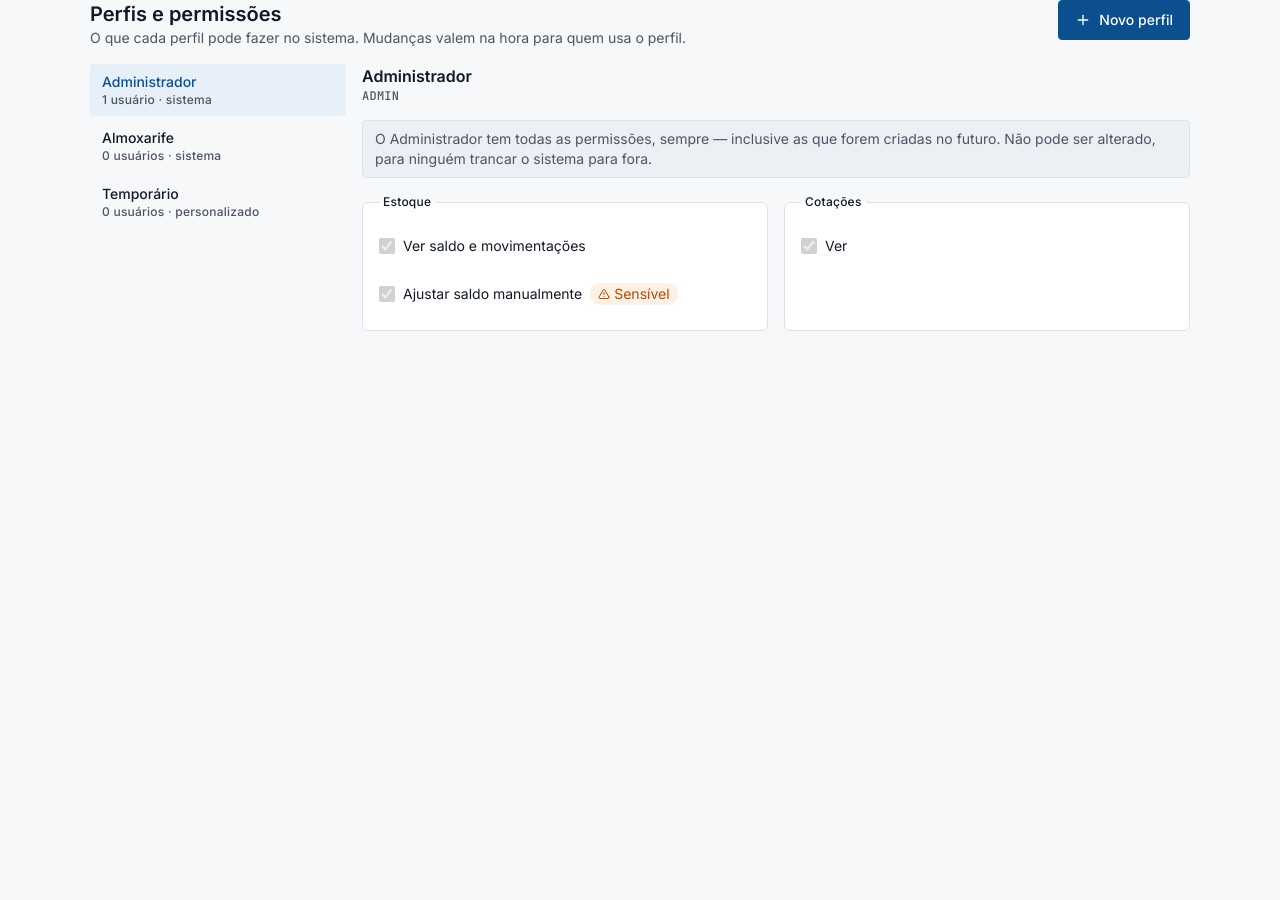
Test case: PerfisPermissoes › trocar de perfil com alteracao nao salva pede confirmacao
The image size is (1280, 900).
Click the button "Almoxarife 0 usuários · sistema" at (218, 146), box [90,120,346,172]
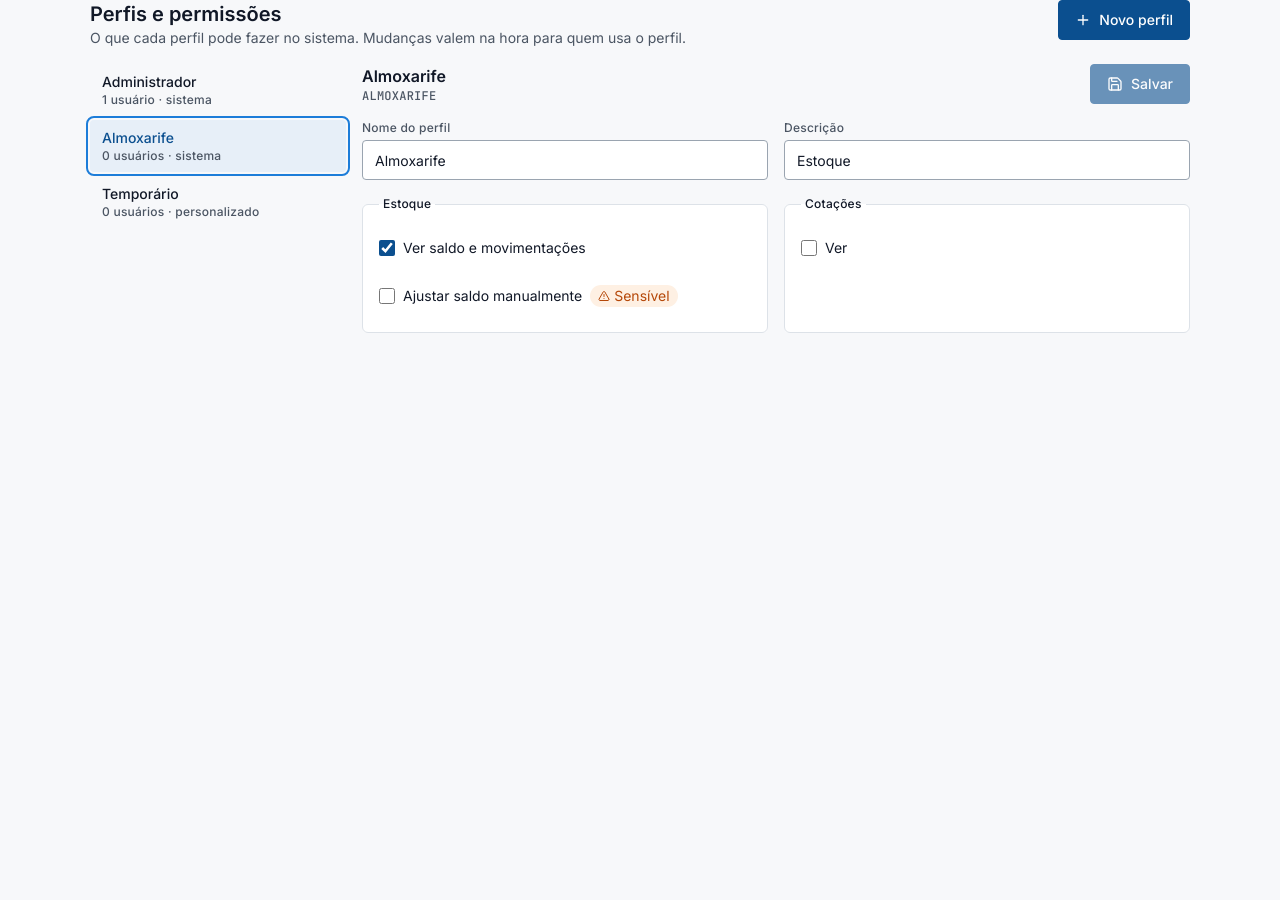
Click the checkbox labelled "Ajustar saldo manualmente Sensível" at (387, 296), box [379,288,395,304]
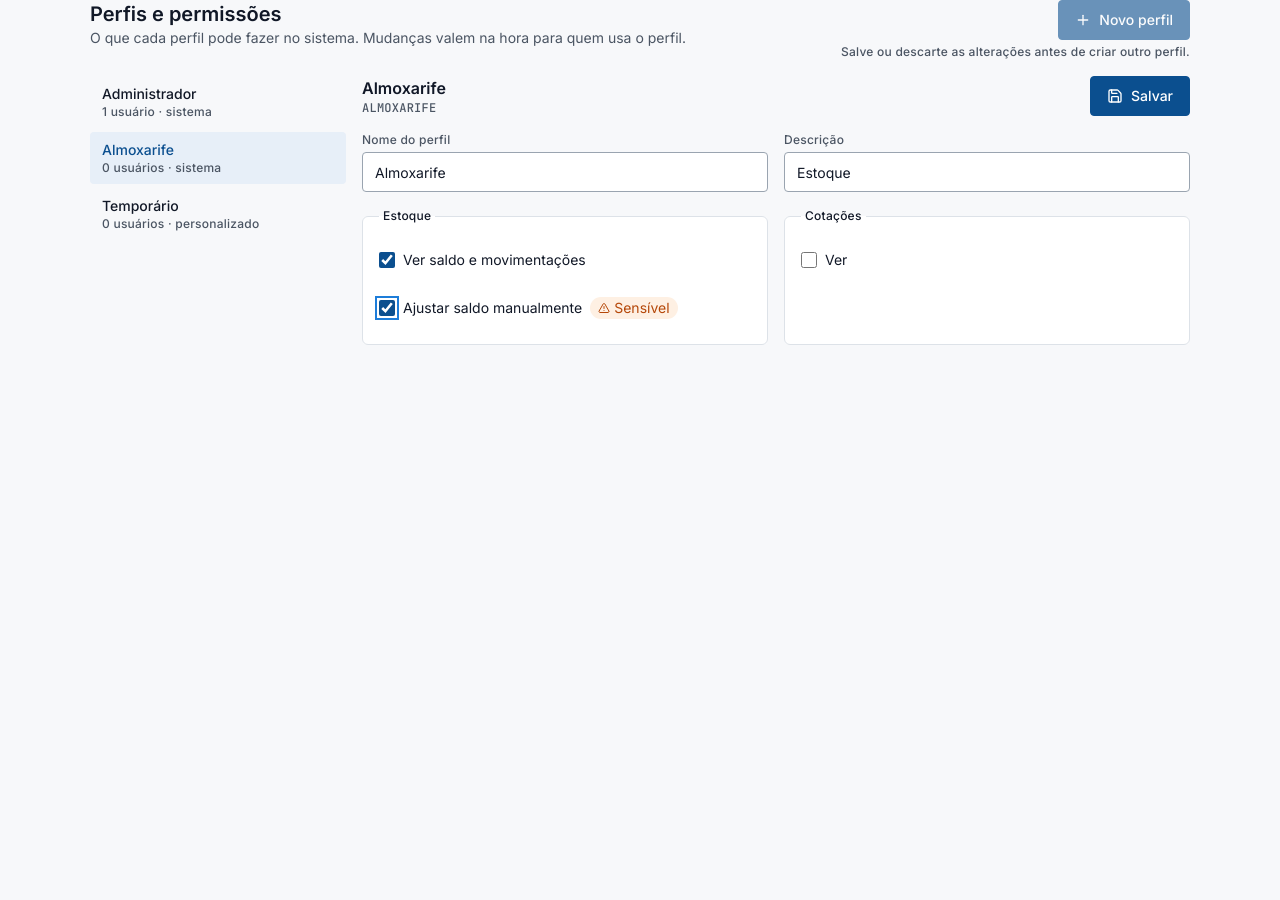
Click the button "Temporário 0 usuários · personalizado" at (218, 214), box [90,188,346,240]
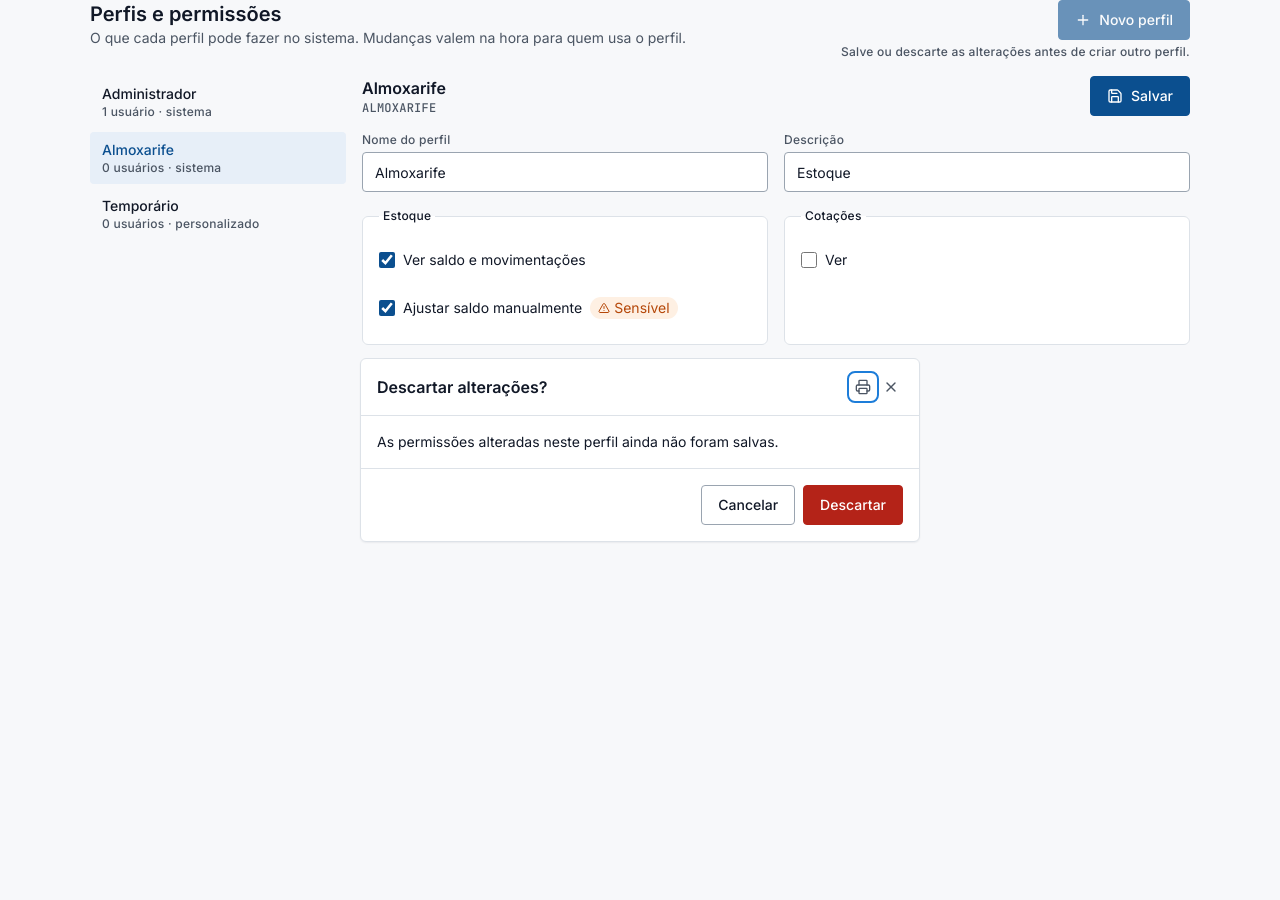
Check: the dialog "Descartar alterações?" is shown, box [360,358,920,542]
Click the button "Descartar" at (853, 505), box [803,485,903,525]
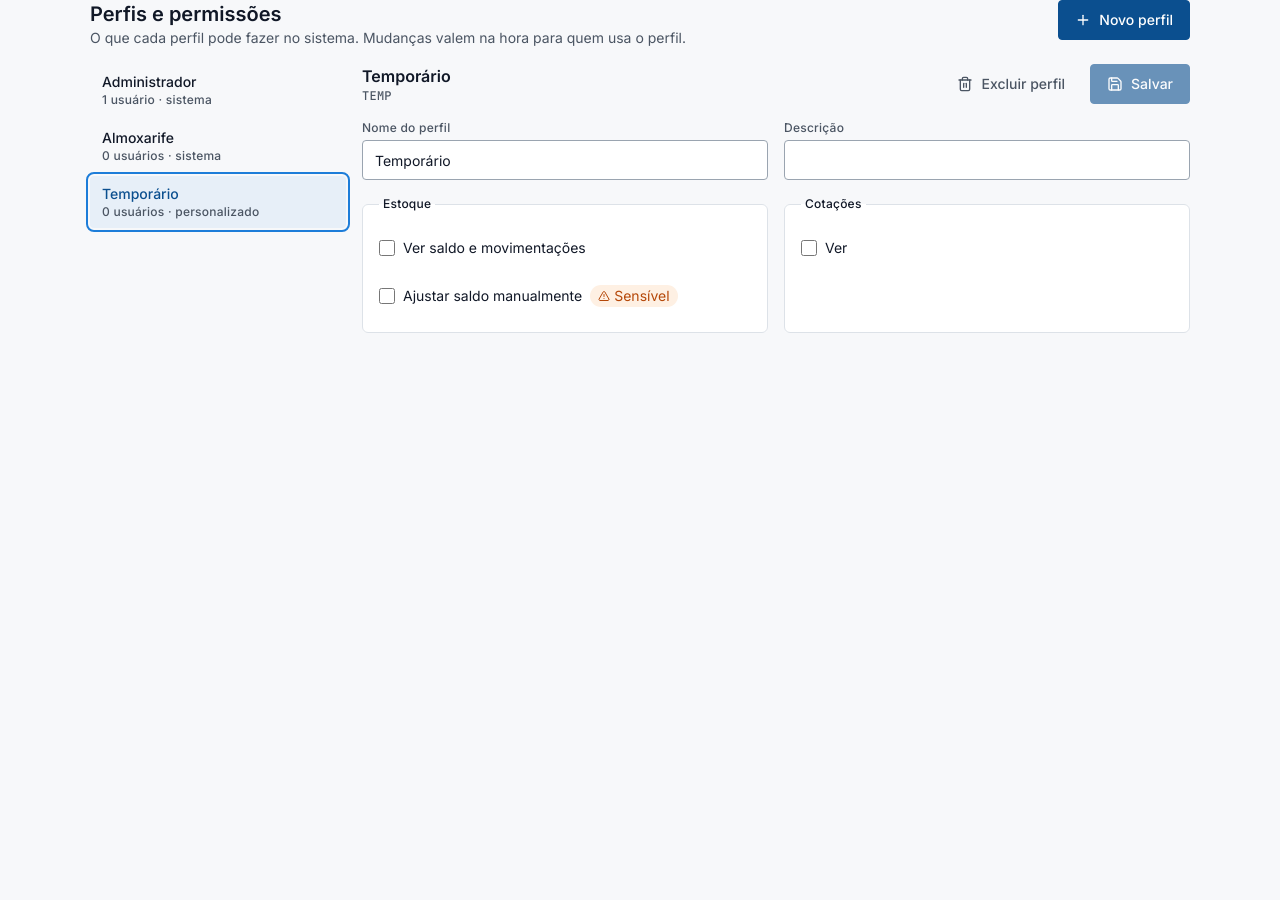
Check: the form named "Permissões do perfil Temporário" is shown, box [362,64,1190,333]
